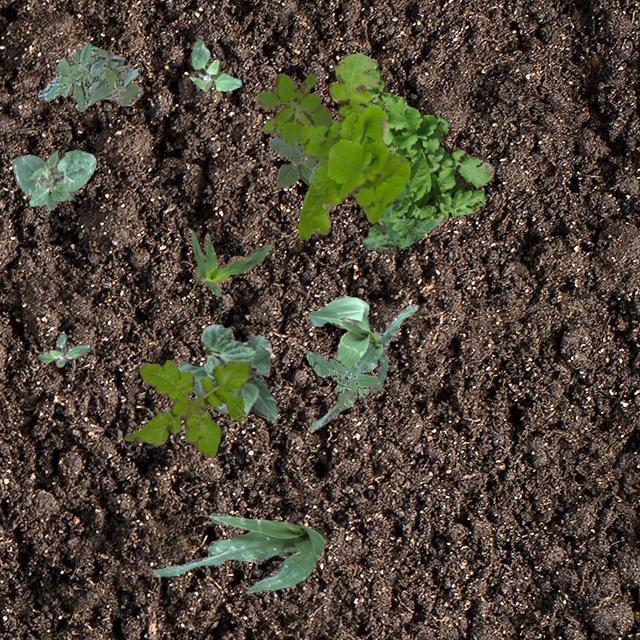crop: (308, 296, 416, 430), (150, 512, 324, 592), (178, 324, 276, 419), (190, 230, 272, 296), (10, 148, 96, 210), (268, 136, 316, 186)
weed: (296, 52, 408, 240), (360, 66, 492, 220), (123, 358, 250, 456), (36, 42, 142, 110), (360, 178, 444, 250), (254, 72, 332, 146), (304, 349, 378, 408), (188, 38, 240, 90), (36, 332, 88, 366), (308, 158, 320, 182)
